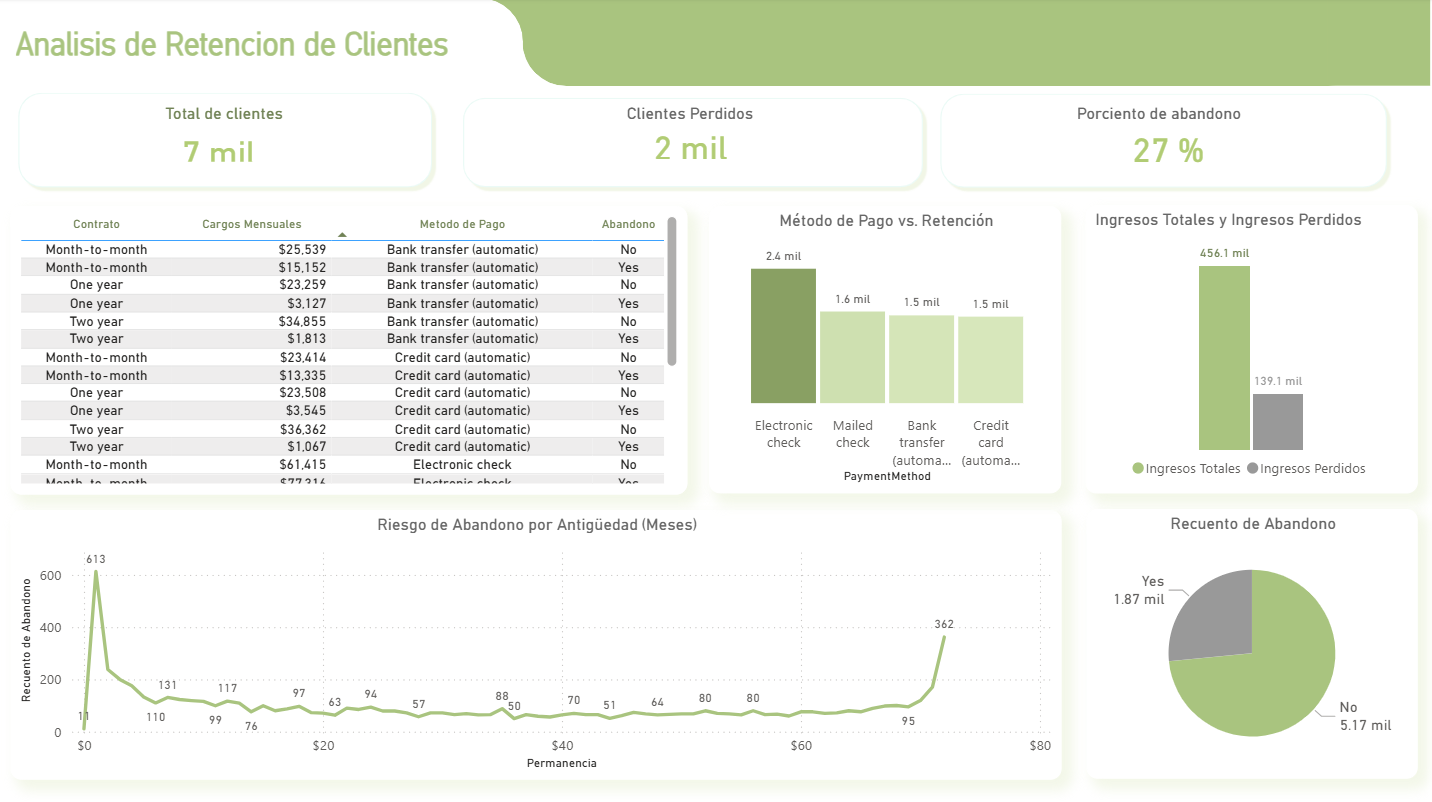

The dashboard page shown, as its layout file describes it:
{"tool":"powerbi","page":{"name":"Página 1","canvas":[1280,720],"ordinal":0},"visuals":[{"type":"shape","box":[433.2,0,92.6,38.9],"z":0},{"type":"shape","box":[470,0,756.9,78.4],"z":0,"group":"g3"},{"type":"group","id":"g1","title":"Grupo 5","box":[14.2,78.3,380.8,96.7],"z":0,"group":"g2"},{"type":"shape","box":[14.2,78.3,380.8,96.7],"z":0,"group":"g1"},{"type":"shape","box":[836,79,410,96],"z":0,"group":"g8"},{"type":"shape","box":[411,83,422,92],"z":0,"group":"g9"},{"type":"tableEx","fields":{"Values":["Telco-Customer-Churn.Contract","Sum(Telco-Customer-Churn.MonthlyCharges)","Telco-Customer-Churn.PaymentMethod","Telco-Customer-Churn.Churn"]},"box":[13.6,185.4,602.7,256.4],"z":0,"group":"g6"},{"type":"shape","box":[1186.7,0,92.7,78.1],"z":1000,"group":"g3"},{"type":"group","id":"g2","title":"Grupo 2","box":[14.2,78.3,380.8,96.7],"z":1000},{"type":"textbox","box":[40,88,328,28],"z":1000,"group":"g1"},{"type":"textbox","box":[433,88,373,45],"z":1000,"group":"g9"},{"type":"textbox","box":[857,88,360,40],"z":1000,"group":"g8"},{"type":"clusteredColumnChart","fields":{"Y":["Telco-Customer-Churn.Ingresos Totales","Telco-Customer-Churn.Ingresos Perdidos"]},"box":[970.7,184.5,295.8,256.4],"z":1000,"group":"g6"},{"type":"group","id":"g3","title":"Grupo 1","box":[470,0,809.3,78.4],"z":2000},{"type":"group","id":"g4","title":"Grupo 4","box":[836,79,410,96],"z":2000,"group":"g7"},{"type":"cardVisual","fields":{"Data":["Telco-Customer-Churn.Churn %"]},"box":[895.8,102,299.5,63.9],"z":2000,"group":"g8"},{"type":"cardVisual","fields":{"Data":["Telco-Customer-Churn.Clientes Churn"]},"box":[451.3,105,338.8,56.2],"z":2000,"group":"g9"},{"type":"cardVisual","fields":{"Data":["Telco-Customer-Churn.Total Clientes"]},"box":[40.2,109.6,317.9,53.2],"z":2000,"group":"g1"},{"type":"lineChart","title":"Riesgo de Abandono por Antigüedad (Meses)","fields":{"Category":["Telco-Customer-Churn.tenure"],"Y":["CountNonNull(Telco-Customer-Churn.Churn)"]},"box":[13.6,456,936.1,240.3],"z":2000,"group":"g6"},{"type":"group","id":"g5","title":"Grupo 3","box":[411,83,422,92],"z":3000},{"type":"pieChart","title":"Recuento de Abandono","fields":{"Category":["Telco-Customer-Churn.Churn"],"Y":["CountNonNull(Telco-Customer-Churn.Churn)"]},"box":[972,455.5,295.2,240.4],"z":3000,"group":"g6"},{"type":"shape","box":[0,0,470.2,77.4],"z":4000},{"type":"columnChart","title":"Método de Pago vs. Retención","fields":{"Category":["Telco-Customer-Churn.PaymentMethod"],"Y":["CountNonNull(Telco-Customer-Churn.PaymentMethod)"]},"box":[635.5,185.4,314.2,255.4],"z":4000,"group":"g6"},{"type":"group","id":"g6","title":"Grupo 6","box":[13.6,184.5,1253.6,511.8],"z":6000},{"type":"textbox","box":[13.6,19.1,449.6,50.9],"z":6500},{"type":"group","id":"g7","title":"Grupo 8","box":[836,79,410,96],"z":7000},{"type":"group","id":"g8","title":"Grupo 9","box":[836,79,410,96],"z":7001,"group":"g4"},{"type":"group","id":"g9","title":"Grupo 7","box":[411,83,422,92],"z":7001,"group":"g5"}]}

Visuals, with their boxes in screenshot pixels (x1, y1, x2, y2), scaled from the page's 1280x720 canvas onto the 1432x802 screenshot:
shape: [485,0,588,43]
shape: [526,0,1373,87]
"Grupo 5" group: [16,87,442,195]
shape: [16,87,442,195]
shape: [935,88,1394,195]
shape: [460,92,932,195]
tableEx - Telco-Customer-Churn.Contract x Sum(Telco-Customer-Churn.MonthlyCharges): [15,207,689,492]
shape: [1328,0,1431,87]
"Grupo 2" group: [16,87,442,195]
textbox: [45,98,412,129]
textbox: [484,98,902,148]
textbox: [959,98,1362,143]
clusteredColumnChart - Telco-Customer-Churn.Ingresos Totales x Telco-Customer-Churn.Ingresos Perdidos: [1086,206,1417,491]
"Grupo 1" group: [526,0,1431,87]
"Grupo 4" group: [935,88,1394,195]
cardVisual - Telco-Customer-Churn.Churn %: [1002,114,1337,185]
cardVisual - Telco-Customer-Churn.Clientes Churn: [505,117,884,180]
cardVisual - Telco-Customer-Churn.Total Clientes: [45,122,401,181]
"Riesgo de Abandono por Antigüedad (Meses)" lineChart: [15,508,1062,776]
"Grupo 3" group: [460,92,932,195]
"Recuento de Abandono" pieChart: [1087,507,1418,775]
shape: [0,0,526,86]
"Método de Pago vs. Retención" columnChart: [711,207,1062,491]
"Grupo 6" group: [15,206,1418,776]
textbox: [15,21,518,78]
"Grupo 8" group: [935,88,1394,195]
"Grupo 9" group: [935,88,1394,195]
"Grupo 7" group: [460,92,932,195]
